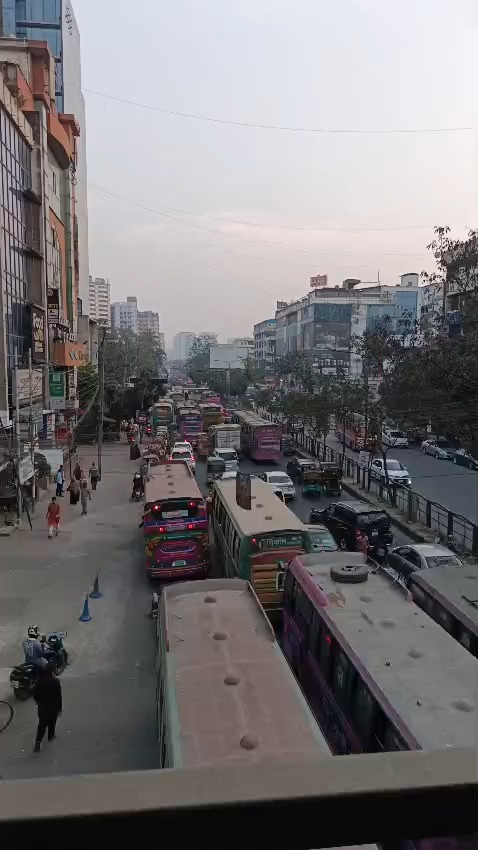Bus: (290, 543, 478, 753), (154, 575, 329, 771), (134, 447, 215, 571)
